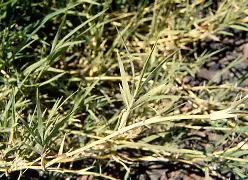weed: (0, 0, 247, 178)
